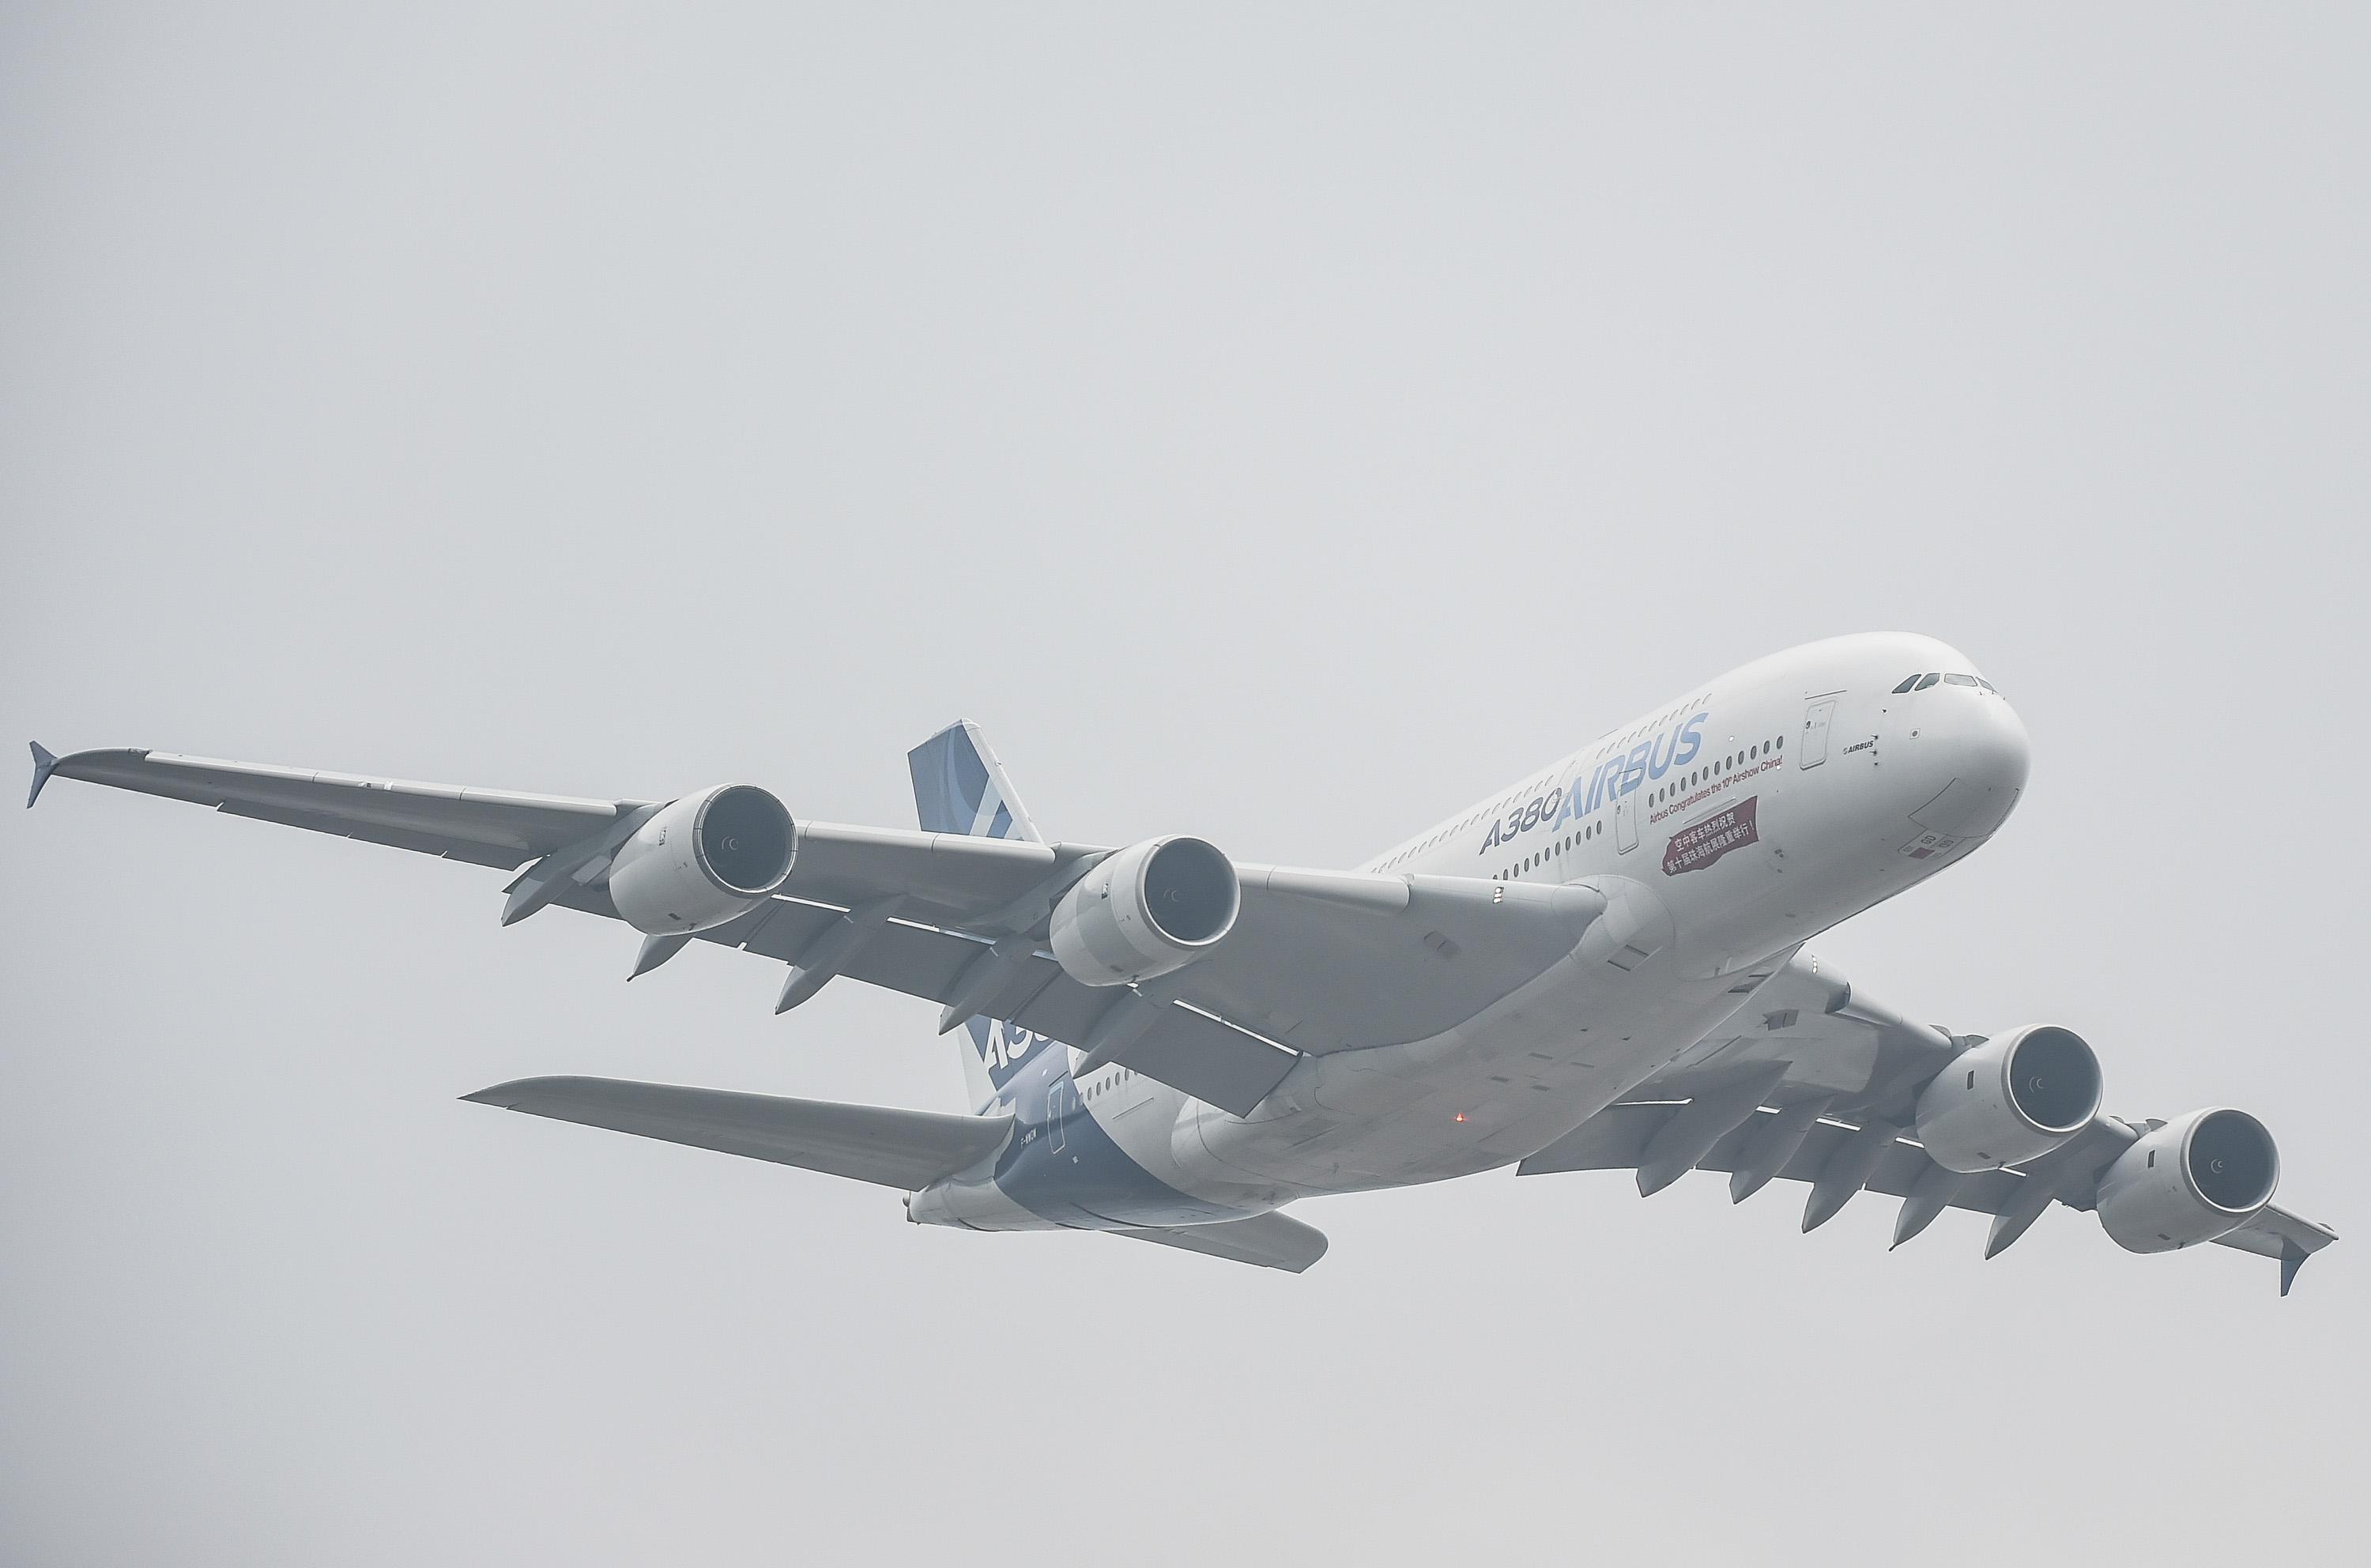airplane: (16, 626, 2371, 1319)
